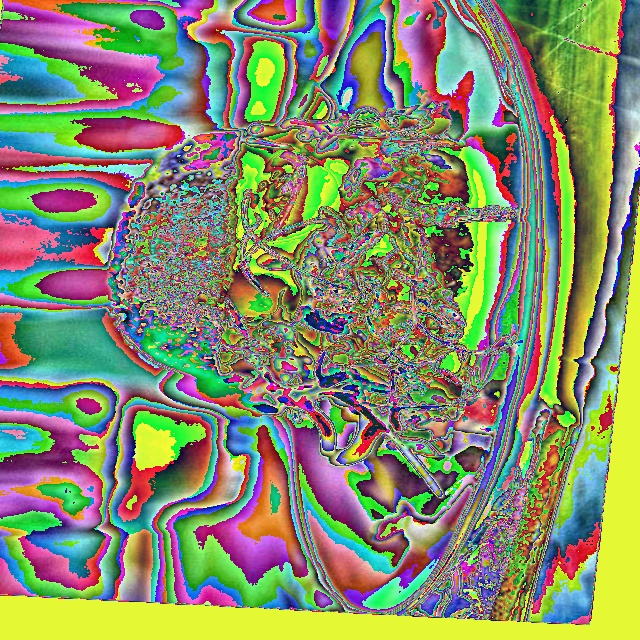background: (105, 92, 518, 543)
